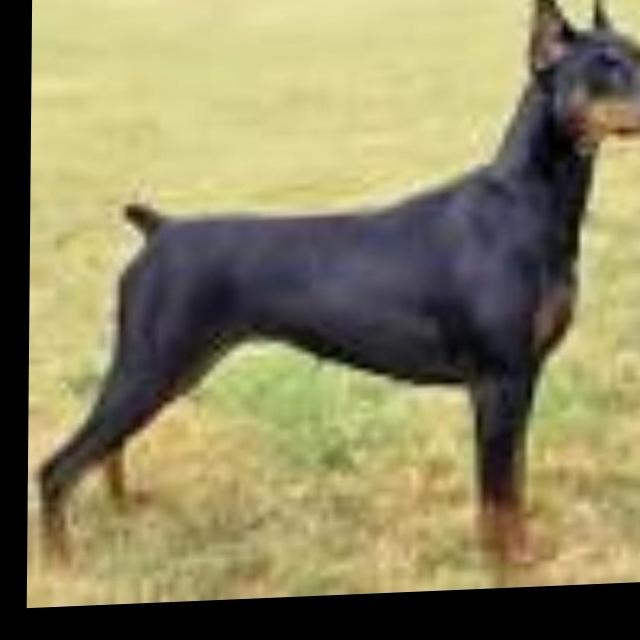dog: (38, 0, 640, 533)
